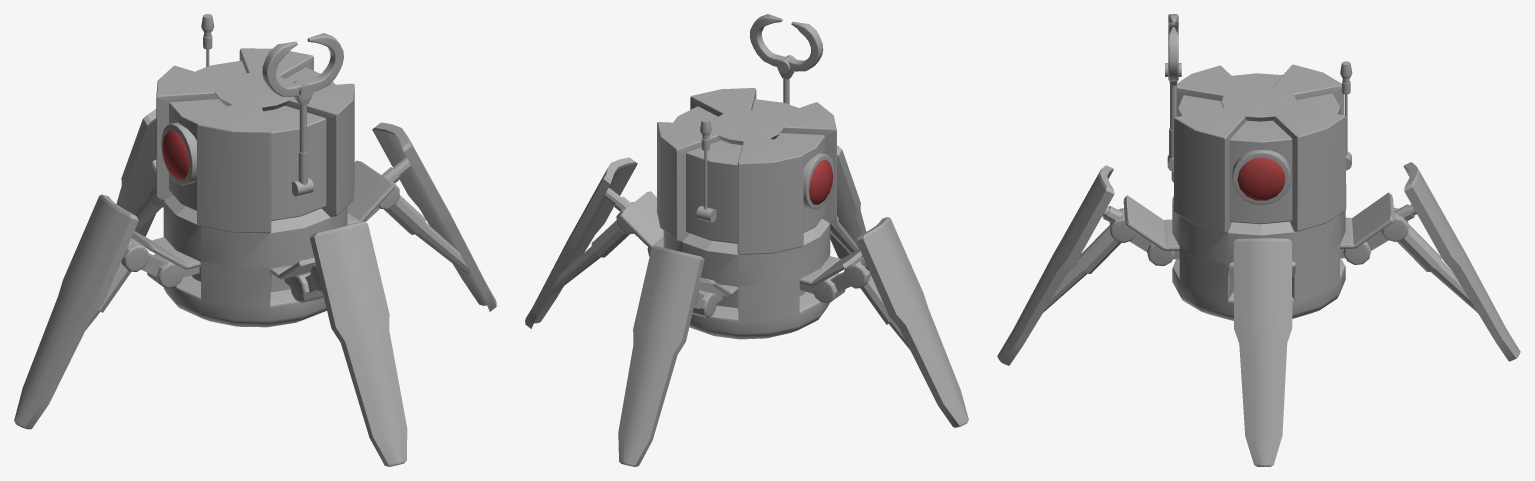
File: SM_Scuttler.fbx
The picture shows the model from 3 angles, left to right: view 1: azimuth 30°, elevation 25°; view 2: azimuth 150°, elevation 25°; view 3: azimuth 270°, elevation 25°; orthographic projection. The views are drawn at different scales.
Parts seen in each view (by area): view 1: scuttler_done:polySurface14; view 2: scuttler_done:polySurface14; view 3: scuttler_done:polySurface14.
Part boxes in pixels (left/top/right/bottom): scuttler_done:polySurface14: left=14, top=14, right=496, bottom=466; scuttler_done:polySurface14: left=525, top=14, right=968, bottom=466; scuttler_done:polySurface14: left=997, top=14, right=1520, bottom=466.
Size of the model in its own units: 201 by 143 by 201.
